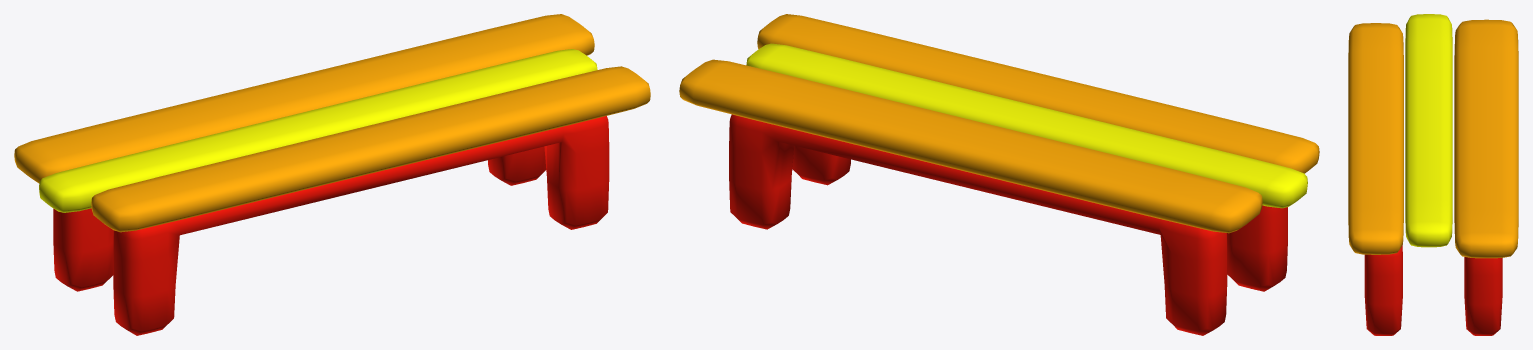
Rendered from banc.fbx.
3 views of the same model, side by side, from view 1: azimuth 30°, elevation 25°; view 2: azimuth 150°, elevation 25°; view 3: azimuth 270°, elevation 25° (orthographic). The views are drawn at different scales.
Visible parts, largest first — view 1: Banc; view 2: Banc; view 3: Banc.
Boxes of the visible parts, x1,y1,x2,y2 form: Banc: (14,14,650,335); Banc: (679,14,1319,335); Banc: (1348,14,1518,335).
Size of the model in its own units: 94.46 by 71.56 by 303.
